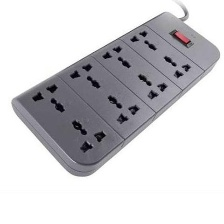three_eye_plug: (4, 9, 220, 182)
